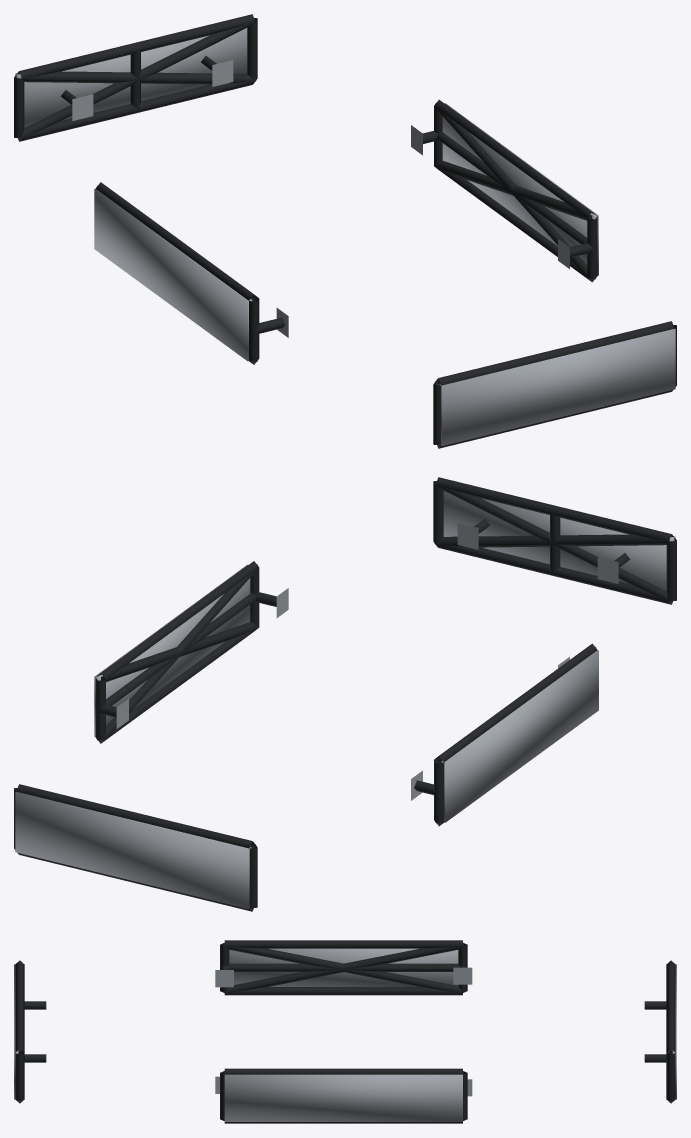
The model's file is hayase_timo_protecao.glb.
3 views of the same model, one above another, from view 1: azimuth 30°, elevation 25°; view 2: azimuth 150°, elevation 25°; view 3: azimuth 270°, elevation 25° (orthographic). The views are drawn at different scales.
Visible parts, largest first — view 1: Protection_front_Level3_Details, Protection_left_Level3_Details, Protection_rear_Level1_Details, Protection_rear_Level3_Details, Protection_right_Level1_Details, Protection_rear_Level2_Details, Protection_right_Level2_Details, Protection_right_Level3_Details, Protection_front_Level1_Details, Protection_left_Level1_Details; view 2: Protection_rear_Level3_Details, Protection_left_Level3_Details, Protection_front_Level1_Details, Protection_front_Level3_Details, Protection_right_Level1_Details, Protection_front_Level2_Details, Protection_right_Level2_Details, Protection_right_Level3_Details, Protection_rear_Level1_Details, Protection_left_Level1_Details; view 3: Protection_right_Level3_Details, Protection_left_Level1_Details, Protection_left_Level2_Details, Protection_left_Level3_Details, Protection_right_Level1_Details, Protection_rear_Level1_Details, Protection_front_Level1_Details.
Part boxes in pixels (x1,y1,x2,y2): Protection_front_Level3_Details: (439, 328, 675, 445); Protection_left_Level3_Details: (94, 188, 252, 361); Protection_rear_Level1_Details: (14, 14, 257, 141); Protection_rear_Level3_Details: (15, 28, 247, 127); Protection_right_Level1_Details: (411, 99, 597, 282); Protection_rear_Level2_Details: (16, 22, 254, 140); Protection_right_Level2_Details: (434, 107, 596, 281); Protection_right_Level3_Details: (442, 103, 598, 275); Protection_front_Level1_Details: (433, 321, 676, 448); Protection_left_Level1_Details: (95, 182, 288, 364); Protection_rear_Level3_Details: (15, 791, 251, 908); Protection_left_Level3_Details: (441, 650, 598, 822); Protection_front_Level1_Details: (433, 477, 676, 604); Protection_front_Level3_Details: (443, 491, 675, 590); Protection_right_Level1_Details: (95, 561, 288, 743); Protection_front_Level2_Details: (436, 485, 674, 603); Protection_right_Level2_Details: (96, 568, 258, 742); Protection_right_Level3_Details: (94, 564, 250, 737); Protection_rear_Level1_Details: (14, 784, 257, 911); Protection_left_Level1_Details: (411, 643, 597, 826); Protection_right_Level3_Details: (224, 1074, 462, 1121); Protection_left_Level1_Details: (215, 940, 472, 995); Protection_left_Level2_Details: (224, 944, 463, 992); Protection_left_Level3_Details: (229, 948, 458, 986); Protection_right_Level1_Details: (215, 1068, 472, 1123); Protection_rear_Level1_Details: (644, 960, 675, 1103); Protection_front_Level1_Details: (15, 960, 46, 1103).
Bounding box in the file's own units: 1.84 × 0.354 × 3.87.
1 material, 1 textured.
